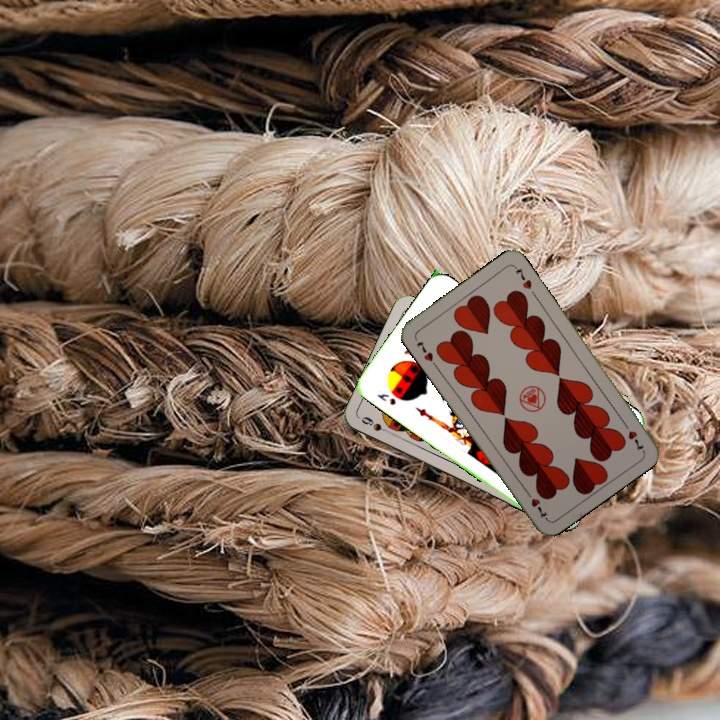H7: (619, 417, 646, 454), (413, 336, 436, 364)
S9: (357, 412, 395, 437)
SK: (372, 389, 399, 408)
